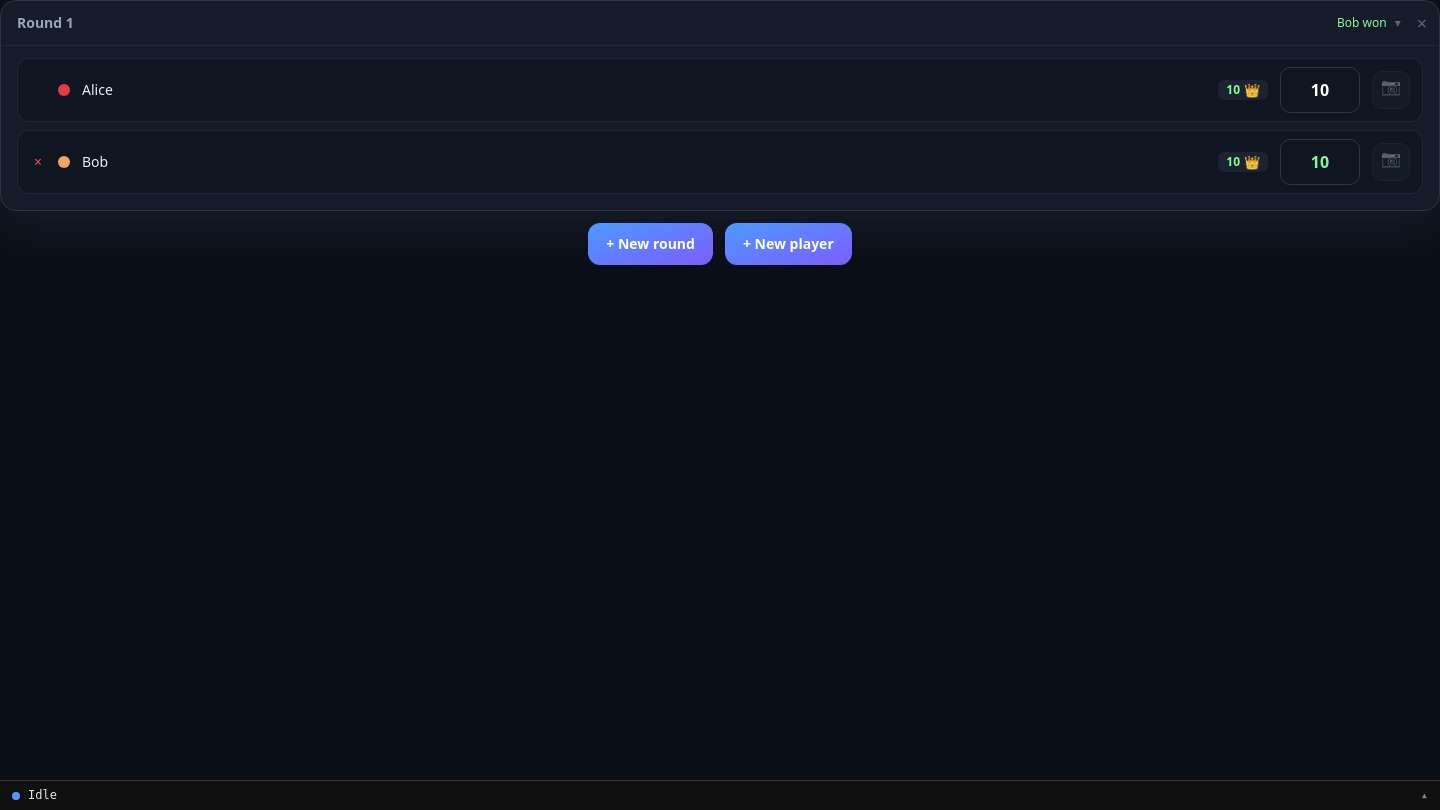
Scenario: keeps the modal open and shows the error when adding fails
Click the button "+ New player": [788, 244] box [725,223,852,265]
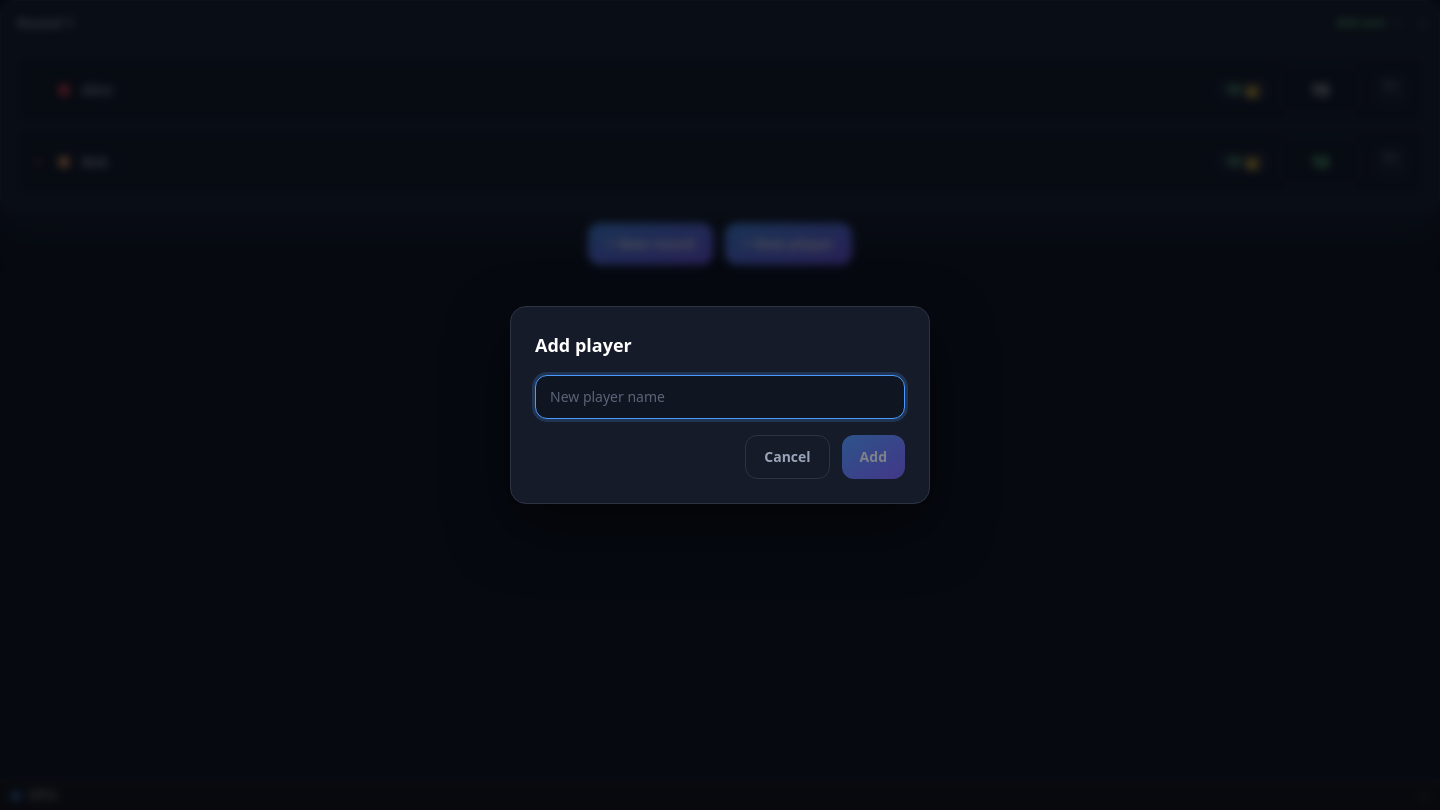
In the field labelled "New player name": [720, 397] box [535,375,905,419], type "Carol"
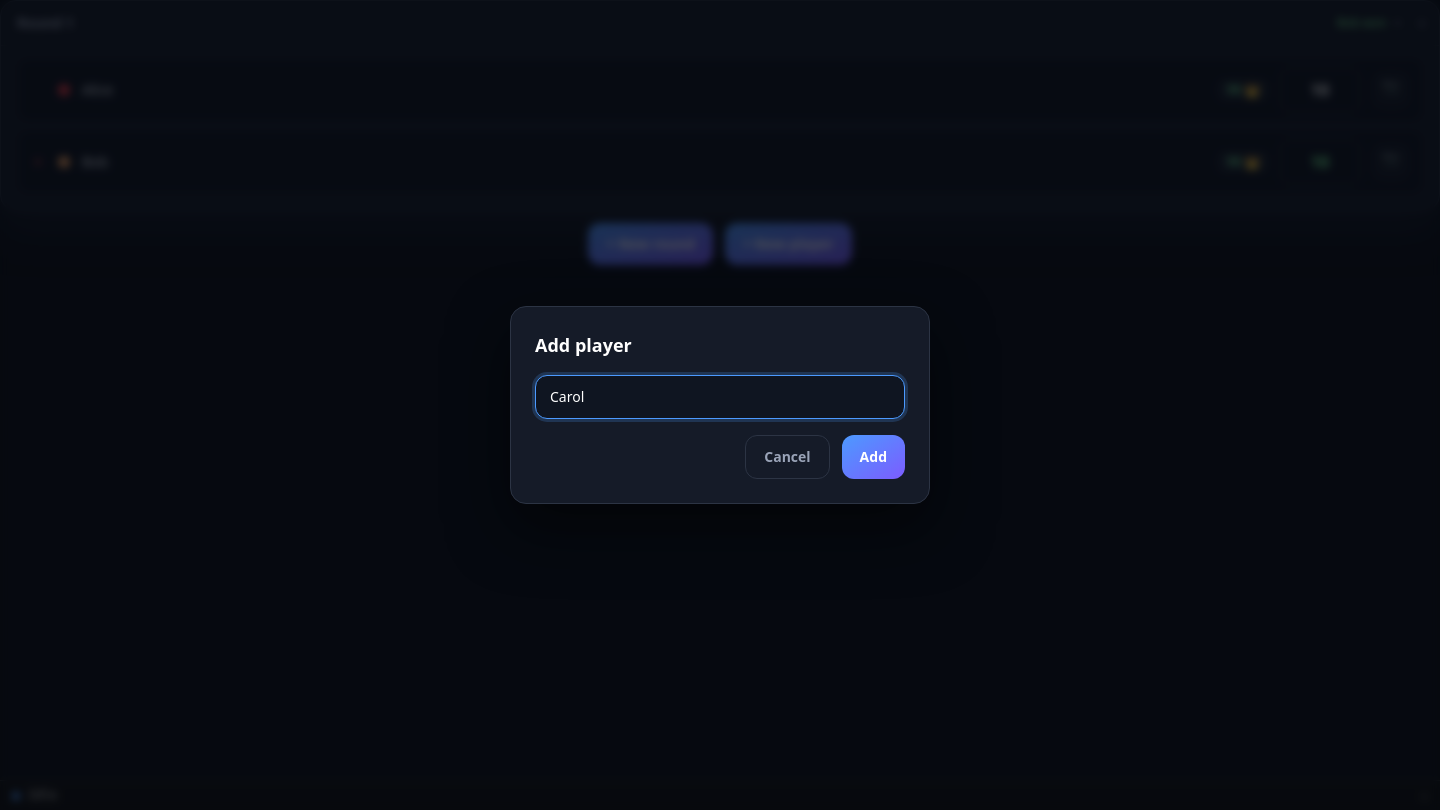
Click the button "Add": [873, 457] box [842,435,905,479]
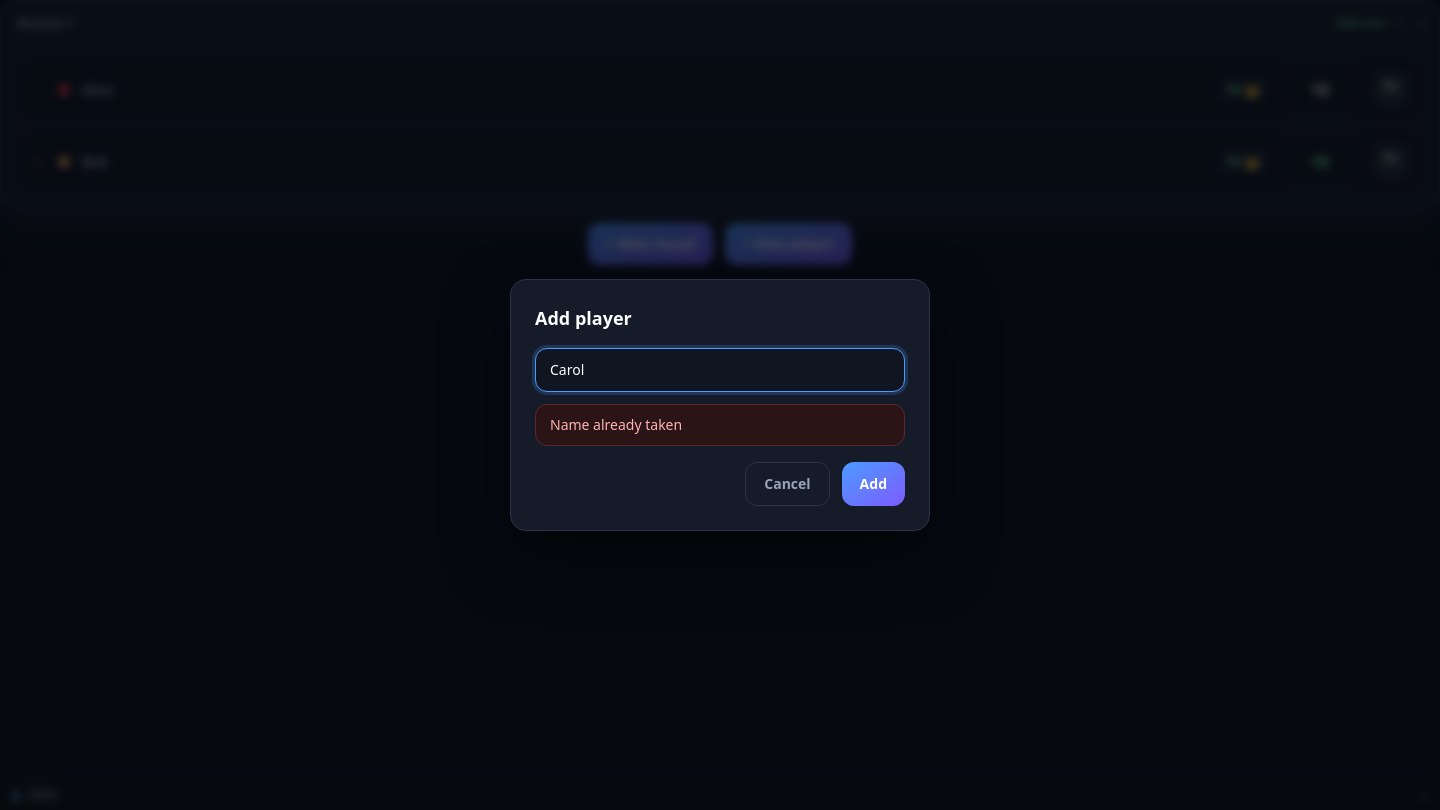
Now the dialog is shown, box [510,279,930,531]
Now the message reads "Name already taken", box [550,415,682,434]
